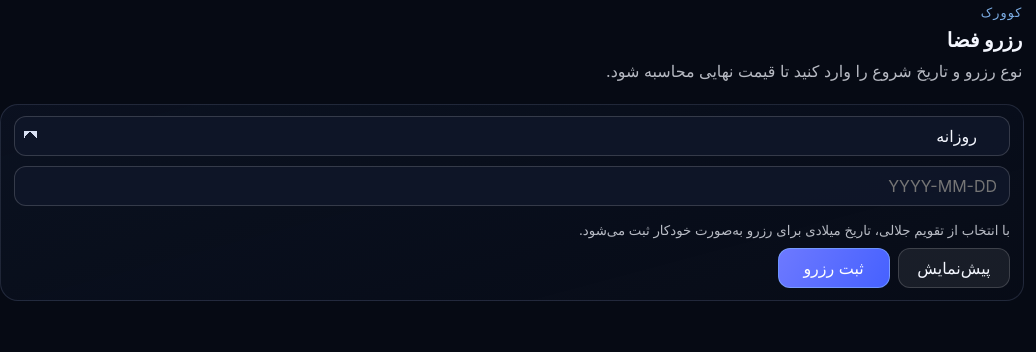
Scenario: forms surface api errors › shows booking preview errors
The image size is (1036, 352).
Type "2026-03-01" into the field with placeholder "YYYY-MM-DD". click: (512, 186)
box: [14,166,1010,206]
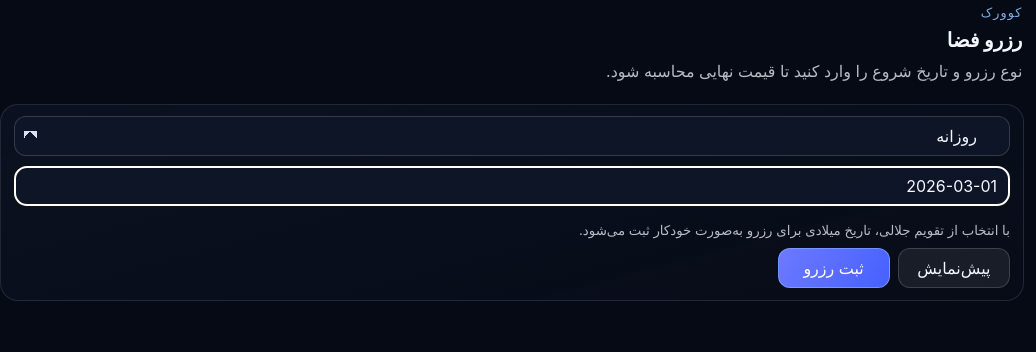
Click the button "پیش‌نمایش". click: (954, 268)
box: [898,248,1010,288]
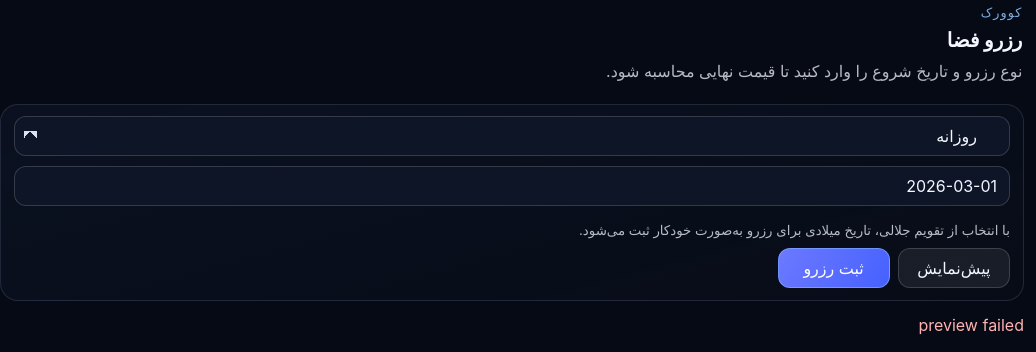
Expected: the text "preview failed" is shown, [918,315,1024,335]
